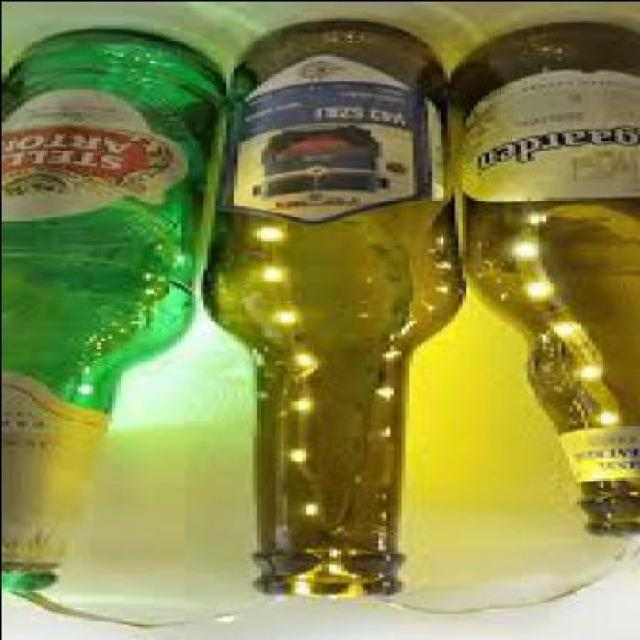GLASS: (209, 21, 480, 597), (4, 31, 221, 592), (460, 18, 638, 540)
